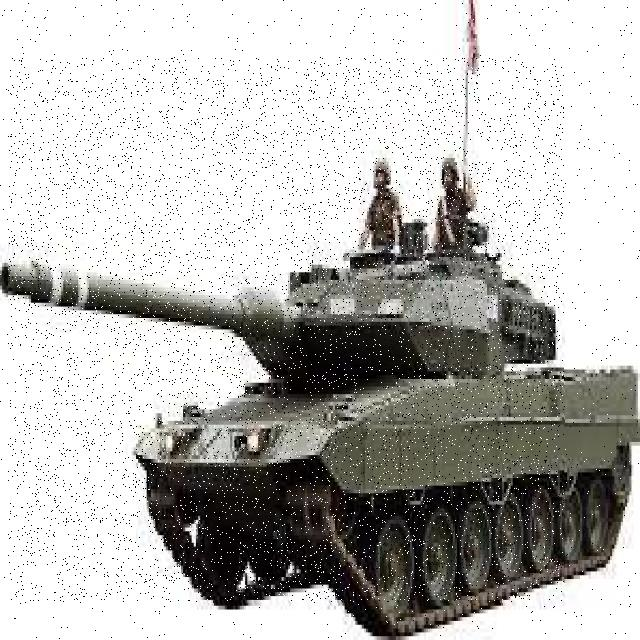MIL_MBT: (9, 59, 564, 602)
